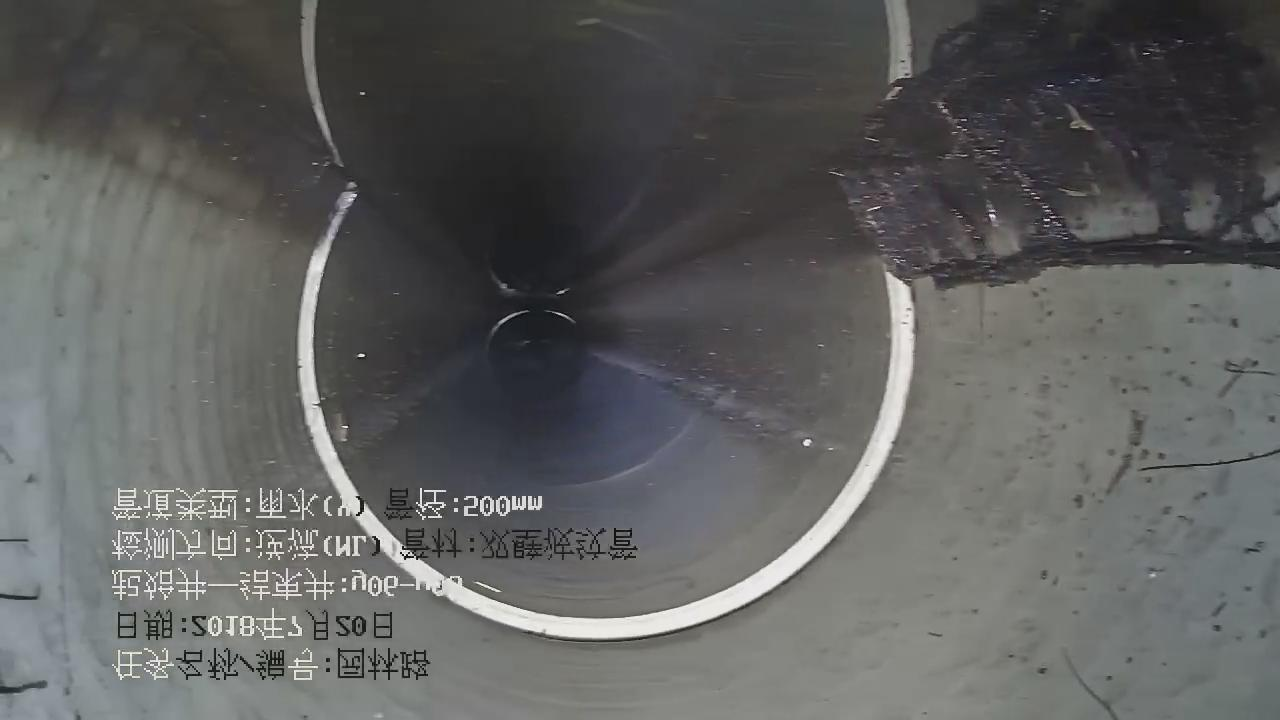CKTJ: (296, 184, 914, 640), (301, 1, 338, 162), (883, 1, 912, 81), (883, 1, 911, 80), (301, 1, 322, 103), (312, 103, 342, 168)
